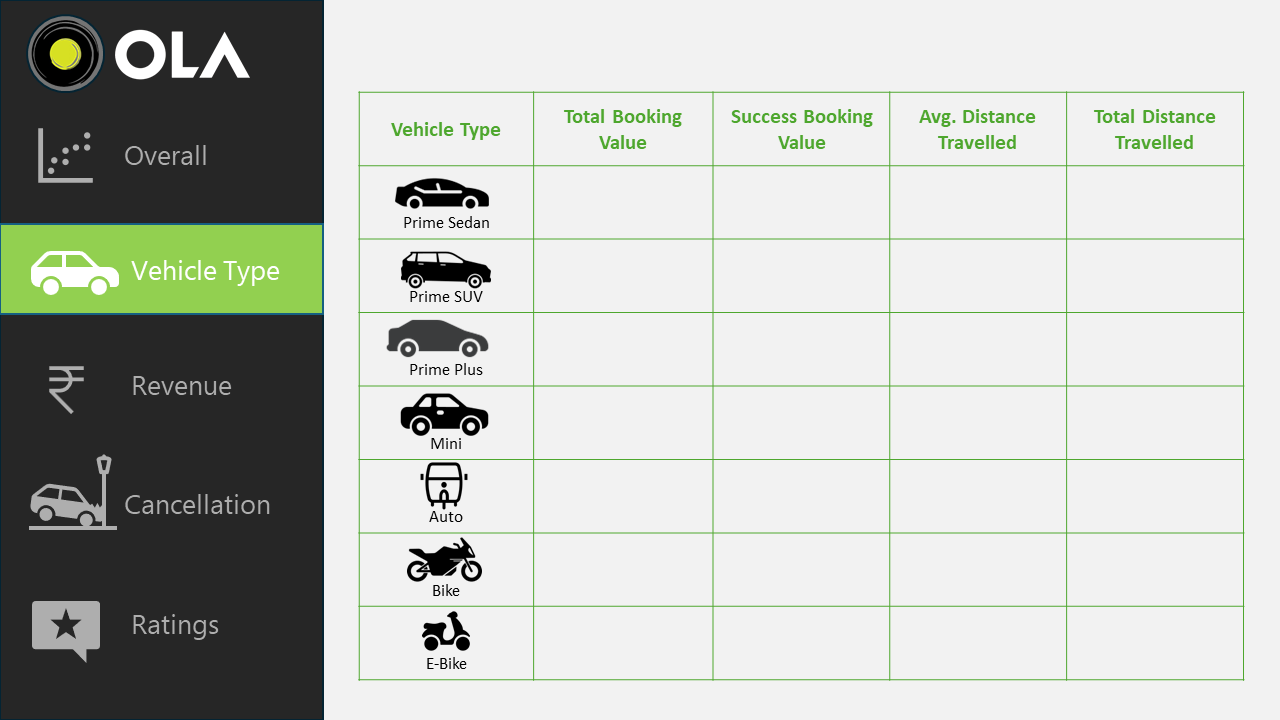

What the dashboard file says about the page in this screenshot:
{"tool":"powerbi","page":{"name":"Vehicle Type","canvas":[1280,720],"ordinal":1},"visuals":[{"type":"actionButton","box":[0,109.4,324.5,98.3],"z":0},{"type":"actionButton","box":[0,344.9,324.5,98.3],"z":1000},{"type":"actionButton","box":[1.9,443.1,324.5,98.3],"z":2000},{"type":"actionButton","box":[1.9,585.9,324.5,98.2],"z":3000},{"type":"card","title":"Total Value","fields":{"Values":["Sum(Bookings.Booking_Value)"]},"box":[537.7,172.4,165,61],"z":4000},{"type":"card","title":"Total Value","fields":{"Values":["Sum(Bookings.Booking_Value)"]},"box":[536.7,240.1,164.2,61.3],"z":5000},{"type":"card","title":"Total Value","fields":{"Values":["Sum(Bookings.Booking_Value)"]},"box":[536.7,316.1,164.2,61.3],"z":6000},{"type":"card","title":"Total Value","fields":{"Values":["Sum(Bookings.Booking_Value)"]},"box":[539.1,394.5,164.2,61.3],"z":7000},{"type":"card","title":"Total Value","fields":{"Values":["Sum(Bookings.Booking_Value)"]},"box":[539.1,463.1,164.2,61.3],"z":8000},{"type":"card","title":"Total Value","fields":{"Values":["Sum(Bookings.Booking_Value)"]},"box":[539.1,541.6,164.2,61.3],"z":9000},{"type":"card","title":"Total Value","fields":{"Values":["Sum(Bookings.Booking_Value)"]},"box":[711.2,615.1,164.1,60.6],"z":10000},{"type":"card","title":"Total Value","fields":{"Values":["Sum(Bookings.Booking_Value)"]},"box":[717.2,171.5,165.6,62.1],"z":11000},{"type":"card","title":"Total Value","fields":{"Values":["Avg(Bookings.Ride_Distance)"]},"box":[899,173,165.6,62.1],"z":12000},{"type":"card","title":"Total Value","fields":{"Values":["Sum(Bookings.Booking_Value)"]},"box":[718.6,244,164.1,62.1],"z":13000},{"type":"card","title":"Total Value","fields":{"Values":["Sum(Bookings.Booking_Value)"]},"box":[717.2,315,164.1,60.6],"z":14000},{"type":"card","title":"Total Value","fields":{"Values":["Sum(Bookings.Booking_Value)"]},"box":[717.2,393.3,164.1,60.6],"z":15000},{"type":"card","title":"Total Value","fields":{"Values":["Sum(Bookings.Booking_Value)"]},"box":[717.2,462.8,164.1,60.6],"z":16000},{"type":"card","title":"Total Value","fields":{"Values":["Sum(Bookings.Booking_Value)"]},"box":[718.6,541.2,164.1,60.6],"z":17000},{"type":"card","title":"Total Value","fields":{"Values":["Sum(Bookings.Booking_Value)"]},"box":[538.2,613.7,164.1,62.1],"z":18000},{"type":"card","title":"Total Value","fields":{"Values":["Avg(Bookings.Ride_Distance)"]},"box":[897.2,245.7,165.6,61.9],"z":19000},{"type":"card","title":"Total Value","fields":{"Values":["Avg(Bookings.Ride_Distance)"]},"box":[897.2,318.5,163.8,60.1],"z":20000},{"type":"card","title":"Total Value","fields":{"Values":["Avg(Bookings.Ride_Distance)"]},"box":[897.2,394.9,163.8,60.1],"z":21000},{"type":"card","title":"Total Value","fields":{"Values":["Avg(Bookings.Ride_Distance)"]},"box":[891.8,464.1,163.8,60.1],"z":22000},{"type":"card","title":"Total Value","fields":{"Values":["Avg(Bookings.Ride_Distance)"]},"box":[891.8,540.5,165.6,60.1],"z":23000},{"type":"card","title":"Total Value","fields":{"Values":["Avg(Bookings.Ride_Distance)"]},"box":[891.8,609.7,163.8,61.9],"z":24000},{"type":"card","title":"Total Value","fields":{"Values":["Sum(Bookings.Ride_Distance)"]},"box":[1064.3,170.6,166.9,61.2],"z":25000},{"type":"card","title":"Total Value","fields":{"Values":["Sum(Bookings.Ride_Distance)"]},"box":[1064.3,246.6,166.9,61.2],"z":26000},{"type":"card","title":"Total Value","fields":{"Values":["Sum(Bookings.Ride_Distance)"]},"box":[1066.1,313.3,165,61.2],"z":27000},{"type":"card","title":"Total Value","fields":{"Values":["Sum(Bookings.Ride_Distance)"]},"box":[1066.1,391.2,165,61.2],"z":28000},{"type":"card","title":"Total Value","fields":{"Values":["Sum(Bookings.Ride_Distance)"]},"box":[1066.1,463.5,165,59.3],"z":29000},{"type":"card","title":"Total Value","fields":{"Values":["Sum(Bookings.Ride_Distance)"]},"box":[1066.1,541.4,166.9,59.3],"z":30000},{"type":"card","title":"Total Value","fields":{"Values":["Sum(Bookings.Ride_Distance)"]},"box":[1068,610,165,63],"z":31000},{"type":"slicer","title":"Date","fields":{"Values":["Bookings.Date"]},"box":[352.3,7.4,330,74.2],"z":31001}]}

Visuals, with their boxes on the page's 1280x720 design canvas (x1, y1, x2, y2). These are canvas units, not pixel positions in the 1280x720 screenshot, which may show the page scaled, cropped or inside an application window:
actionButton: <region>0, 109, 324, 208</region>
actionButton: <region>0, 345, 324, 443</region>
actionButton: <region>2, 443, 326, 541</region>
actionButton: <region>2, 586, 326, 684</region>
"Total Value" card: <region>538, 172, 703, 233</region>
"Total Value" card: <region>537, 240, 701, 301</region>
"Total Value" card: <region>537, 316, 701, 377</region>
"Total Value" card: <region>539, 394, 703, 456</region>
"Total Value" card: <region>539, 463, 703, 524</region>
"Total Value" card: <region>539, 542, 703, 603</region>
"Total Value" card: <region>711, 615, 875, 676</region>
"Total Value" card: <region>717, 172, 883, 234</region>
"Total Value" card: <region>899, 173, 1065, 235</region>
"Total Value" card: <region>719, 244, 883, 306</region>
"Total Value" card: <region>717, 315, 881, 376</region>
"Total Value" card: <region>717, 393, 881, 454</region>
"Total Value" card: <region>717, 463, 881, 523</region>
"Total Value" card: <region>719, 541, 883, 602</region>
"Total Value" card: <region>538, 614, 702, 676</region>
"Total Value" card: <region>897, 246, 1063, 308</region>
"Total Value" card: <region>897, 318, 1061, 379</region>
"Total Value" card: <region>897, 395, 1061, 455</region>
"Total Value" card: <region>892, 464, 1056, 524</region>
"Total Value" card: <region>892, 540, 1057, 601</region>
"Total Value" card: <region>892, 610, 1056, 672</region>
"Total Value" card: <region>1064, 171, 1231, 232</region>
"Total Value" card: <region>1064, 247, 1231, 308</region>
"Total Value" card: <region>1066, 313, 1231, 374</region>
"Total Value" card: <region>1066, 391, 1231, 452</region>
"Total Value" card: <region>1066, 464, 1231, 523</region>
"Total Value" card: <region>1066, 541, 1233, 601</region>
"Total Value" card: <region>1068, 610, 1233, 673</region>
"Date" slicer: <region>352, 7, 682, 82</region>
